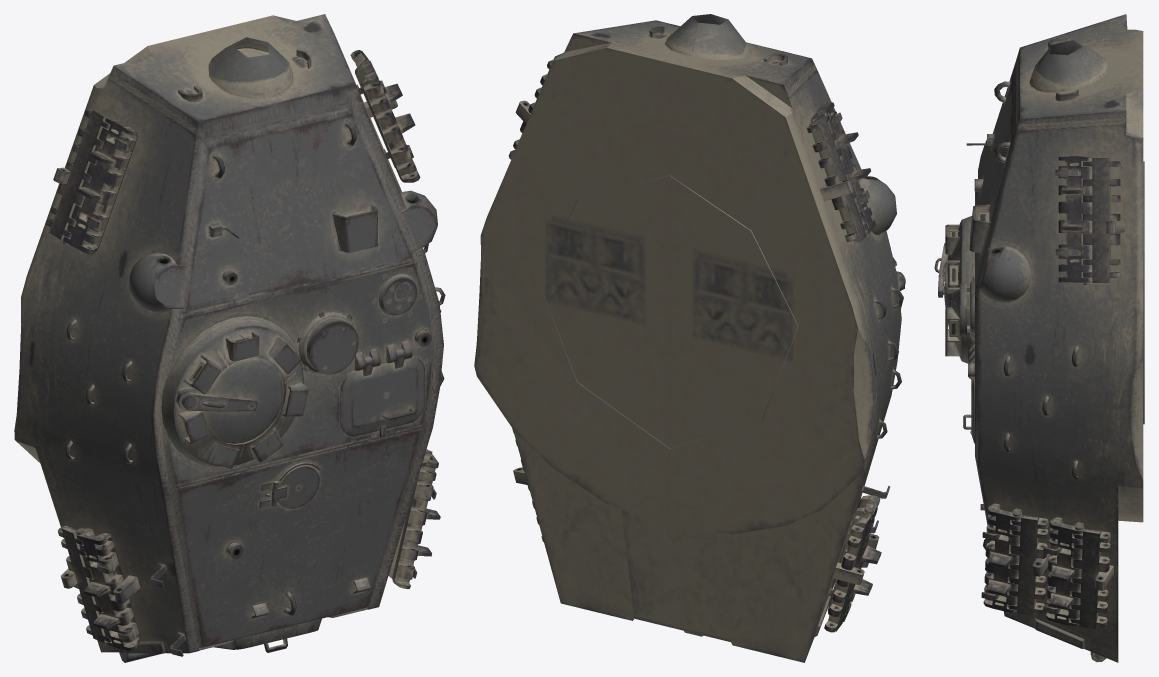
File: Turret_02.glb
3 views of the same model, side by side, from view 1: azimuth 30°, elevation 25°; view 2: azimuth 150°, elevation 25°; view 3: azimuth 270°, elevation 25° (orthographic). The views are drawn at different scales.
Visible parts, largest first — view 1: set_0_group_0; view 2: set_0_group_0; view 3: set_0_group_0.
Boxes of the visible parts, bbox=[...] form: set_0_group_0: bbox=[14, 14, 445, 662]; set_0_group_0: bbox=[474, 14, 905, 662]; set_0_group_0: bbox=[934, 14, 1144, 662].
Size of the model in its own units: 2.58 by 3.78 by 1.26.
1 material, 1 textured.
